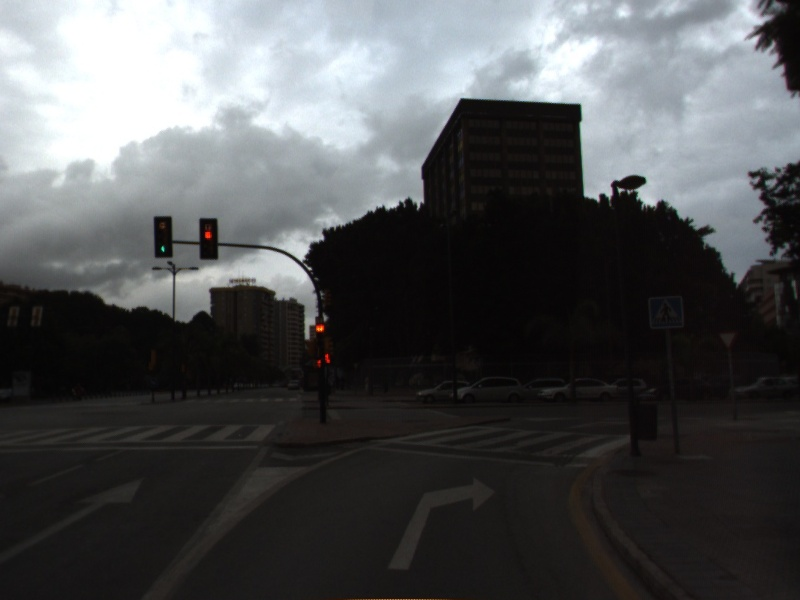RIGHT: (383, 471, 502, 574)
STRAIGHT: (1, 472, 148, 561)
